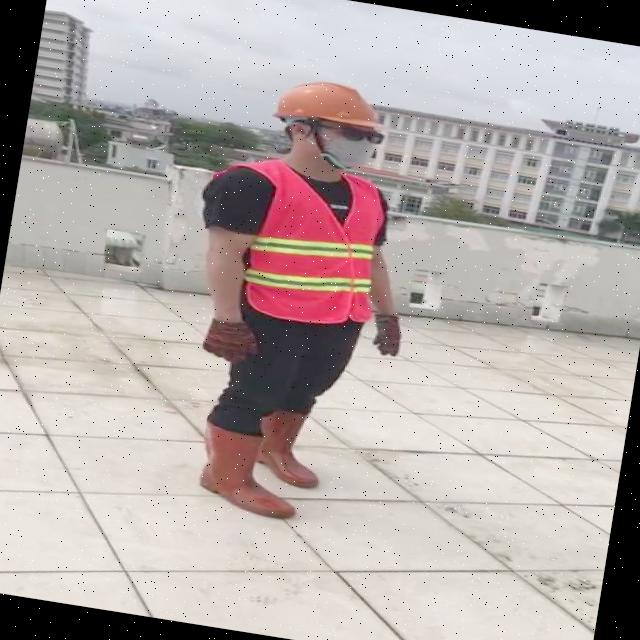boots: (192, 419, 304, 521), (250, 406, 332, 492)
